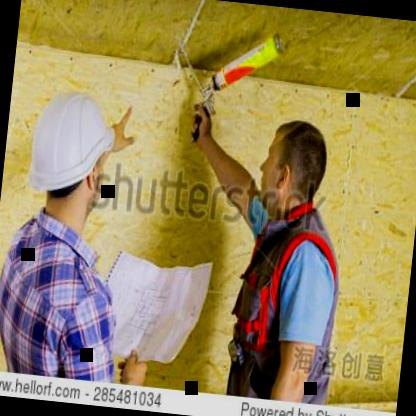helmet: (19, 84, 121, 232)
